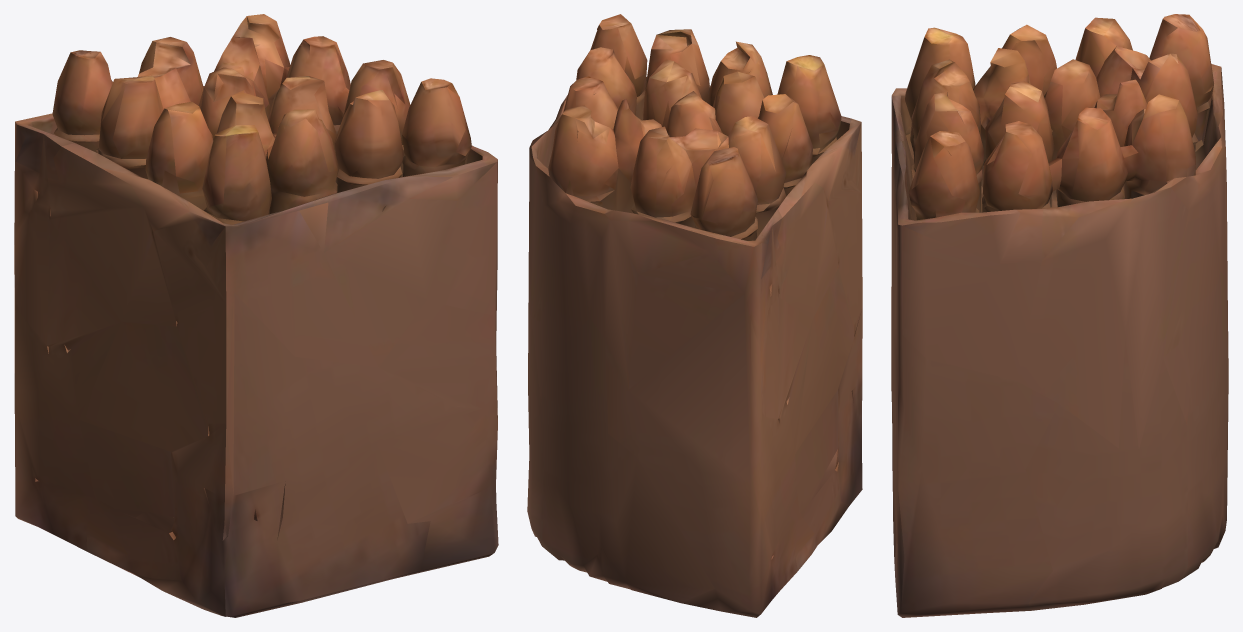
Rendered from ammo_9mm_obychnye_idle.glb.
3 views of the same model, side by side, from view 1: azimuth 30°, elevation 25°; view 2: azimuth 150°, elevation 25°; view 3: azimuth 270°, elevation 25° (orthographic). The views are drawn at different scales.
Visible parts, largest first — view 1: tripo_node_fa44610a-99b4-4934-b695-dd93c42fd757; view 2: tripo_node_fa44610a-99b4-4934-b695-dd93c42fd757; view 3: tripo_node_fa44610a-99b4-4934-b695-dd93c42fd757.
Part boxes in pixels (<box>): tripo_node_fa44610a-99b4-4934-b695-dd93c42fd757: <box>14,14,498,617</box>; tripo_node_fa44610a-99b4-4934-b695-dd93c42fd757: <box>527,14,862,617</box>; tripo_node_fa44610a-99b4-4934-b695-dd93c42fd757: <box>891,14,1228,617</box>.
Size of the model in its own units: 0.0599 by 0.0823 by 0.0532.
1 material, 1 textured.
